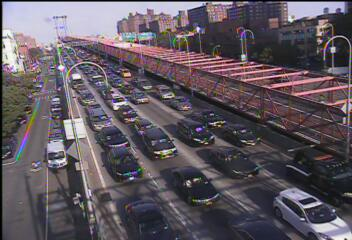neg: (10, 45, 46, 93), (62, 37, 94, 80), (39, 105, 67, 142), (126, 47, 153, 83), (94, 179, 119, 212), (250, 34, 273, 66), (179, 86, 202, 117), (82, 134, 104, 164), (134, 140, 154, 167), (246, 165, 265, 190), (187, 134, 205, 159), (227, 93, 243, 115), (282, 151, 297, 171), (194, 185, 207, 202)
